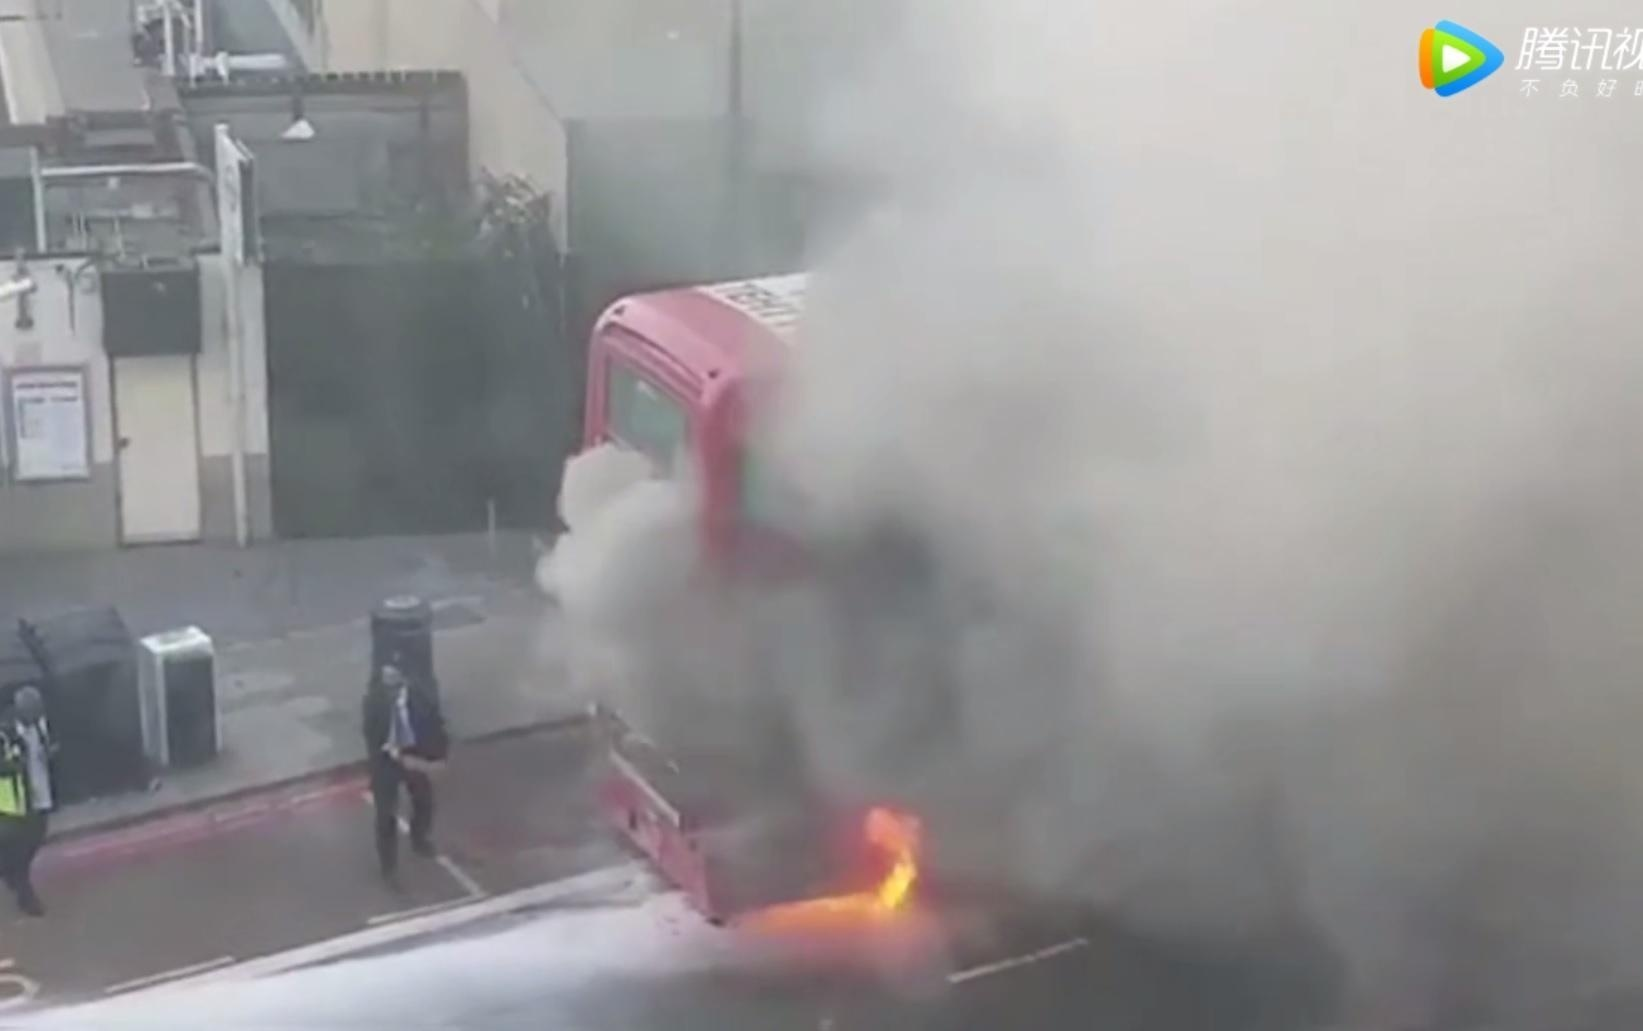fire: (710, 802, 932, 928)
